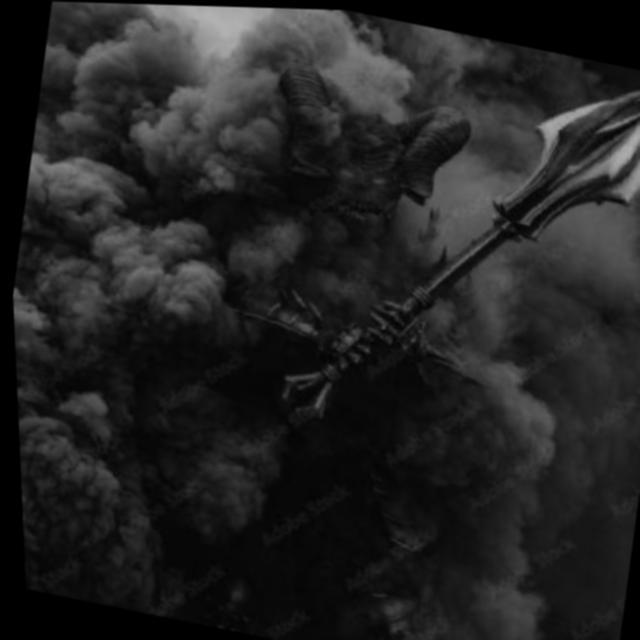weapon: (263, 23, 640, 477)
